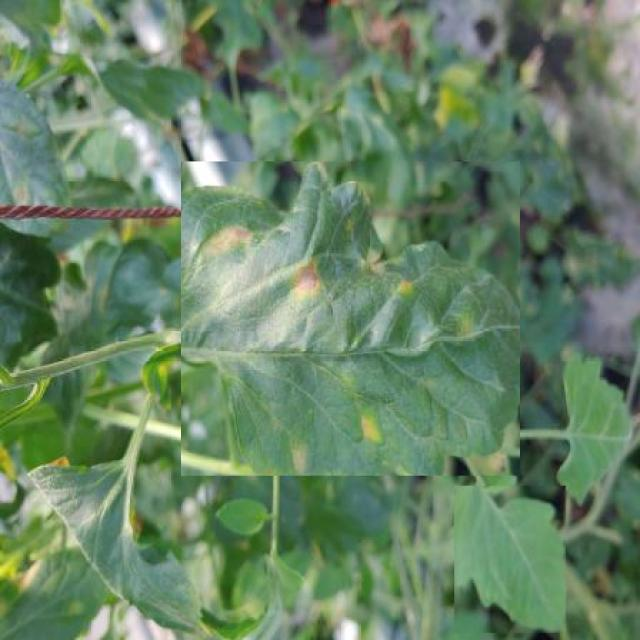Healthy: (455, 486, 566, 633)
Leaf Mold: (180, 162, 520, 477)
